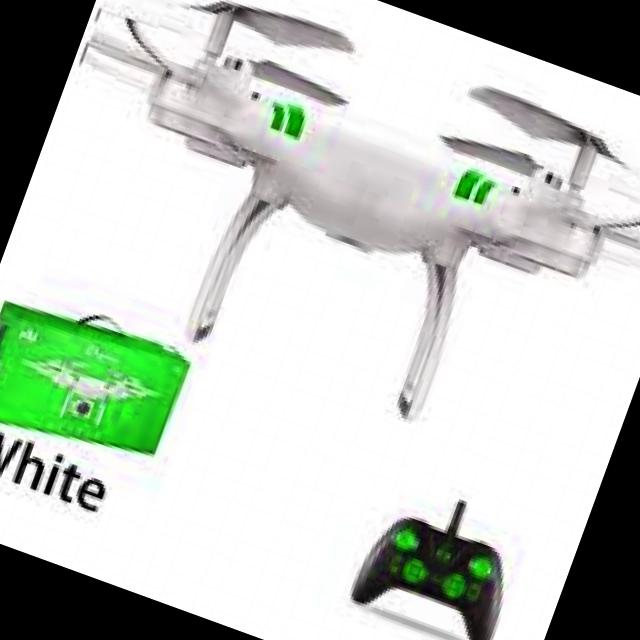drone: (0, 0, 640, 505)
